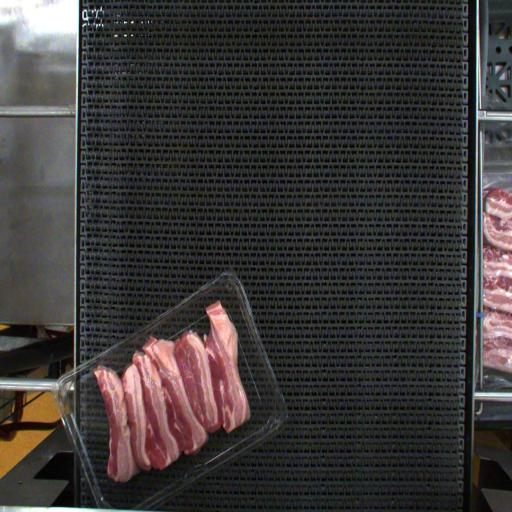twisted-meat: (203, 299, 245, 397)
